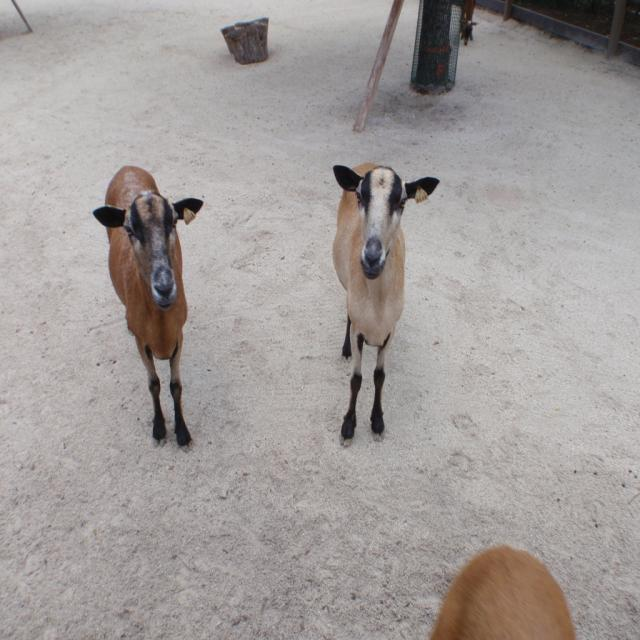Goat: (92, 168, 204, 456), (332, 156, 439, 451)
